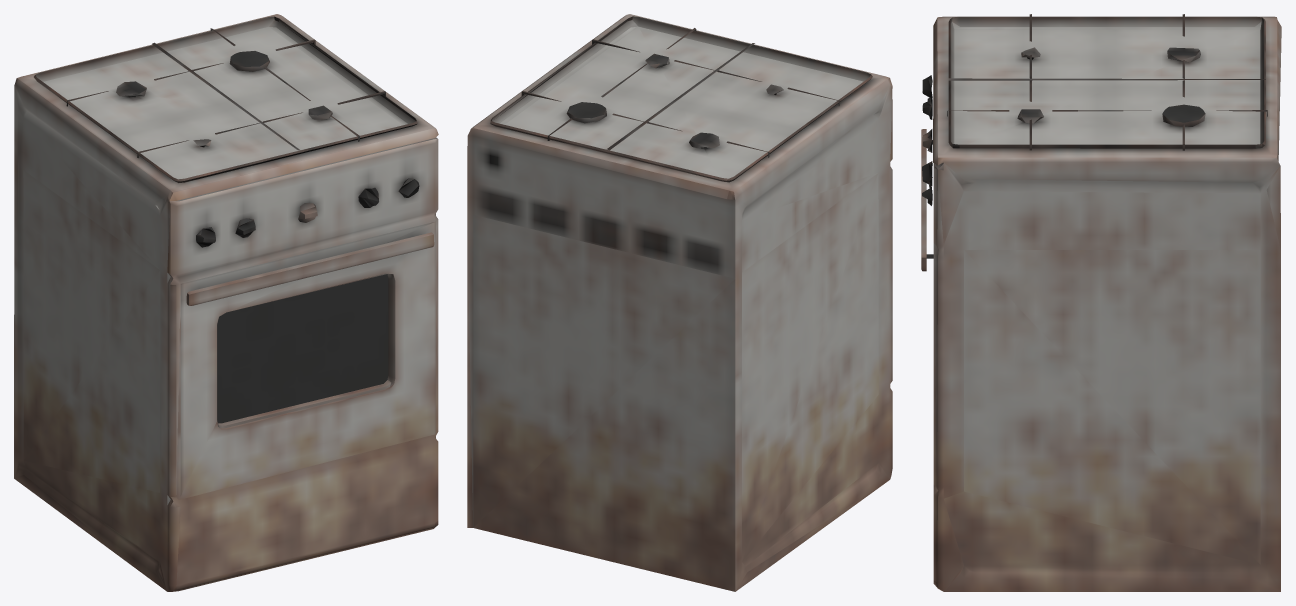
File: stove_kettle.glb
3 renders of one model, left to right at view 1: azimuth 30°, elevation 25°; view 2: azimuth 150°, elevation 25°; view 3: azimuth 270°, elevation 25°, orthographic. The views are drawn at different scales.
Parts seen in each view (by area): view 1: mesh; view 2: mesh; view 3: mesh.
Boxes of the visible parts, x1,y1,x2,y2 form: mesh: [14, 14, 438, 591]; mesh: [467, 14, 892, 591]; mesh: [921, 14, 1281, 591].
Size of the model in its own units: 0.1712 by 0.248 by 0.1832.
Materials: 1 (1 with a texture image).
